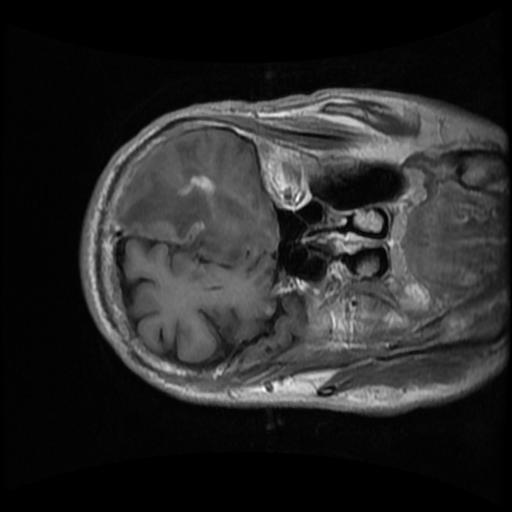glioma: (119, 131, 277, 269)
